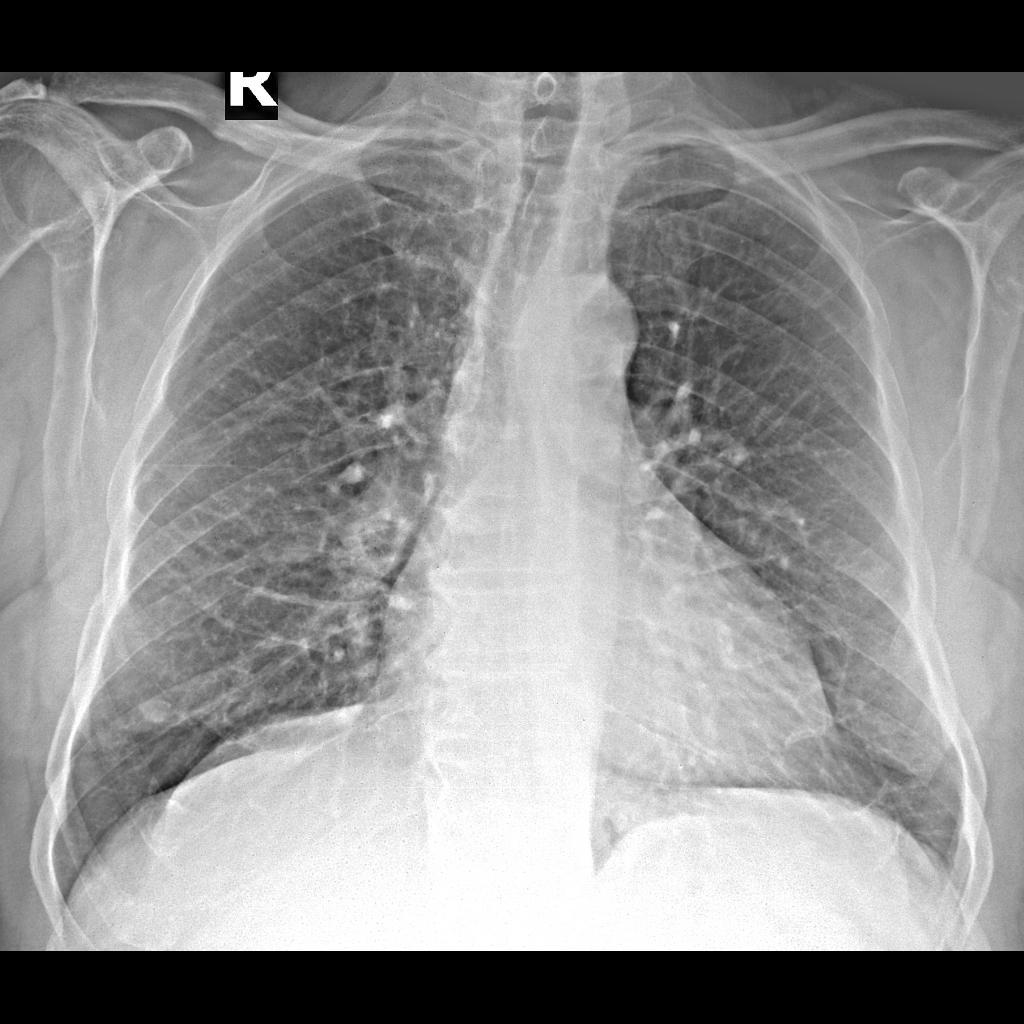Nodule: (135, 690, 182, 734)
